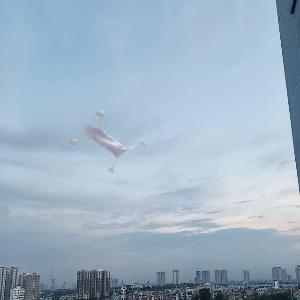drone: (60, 89, 162, 191)
